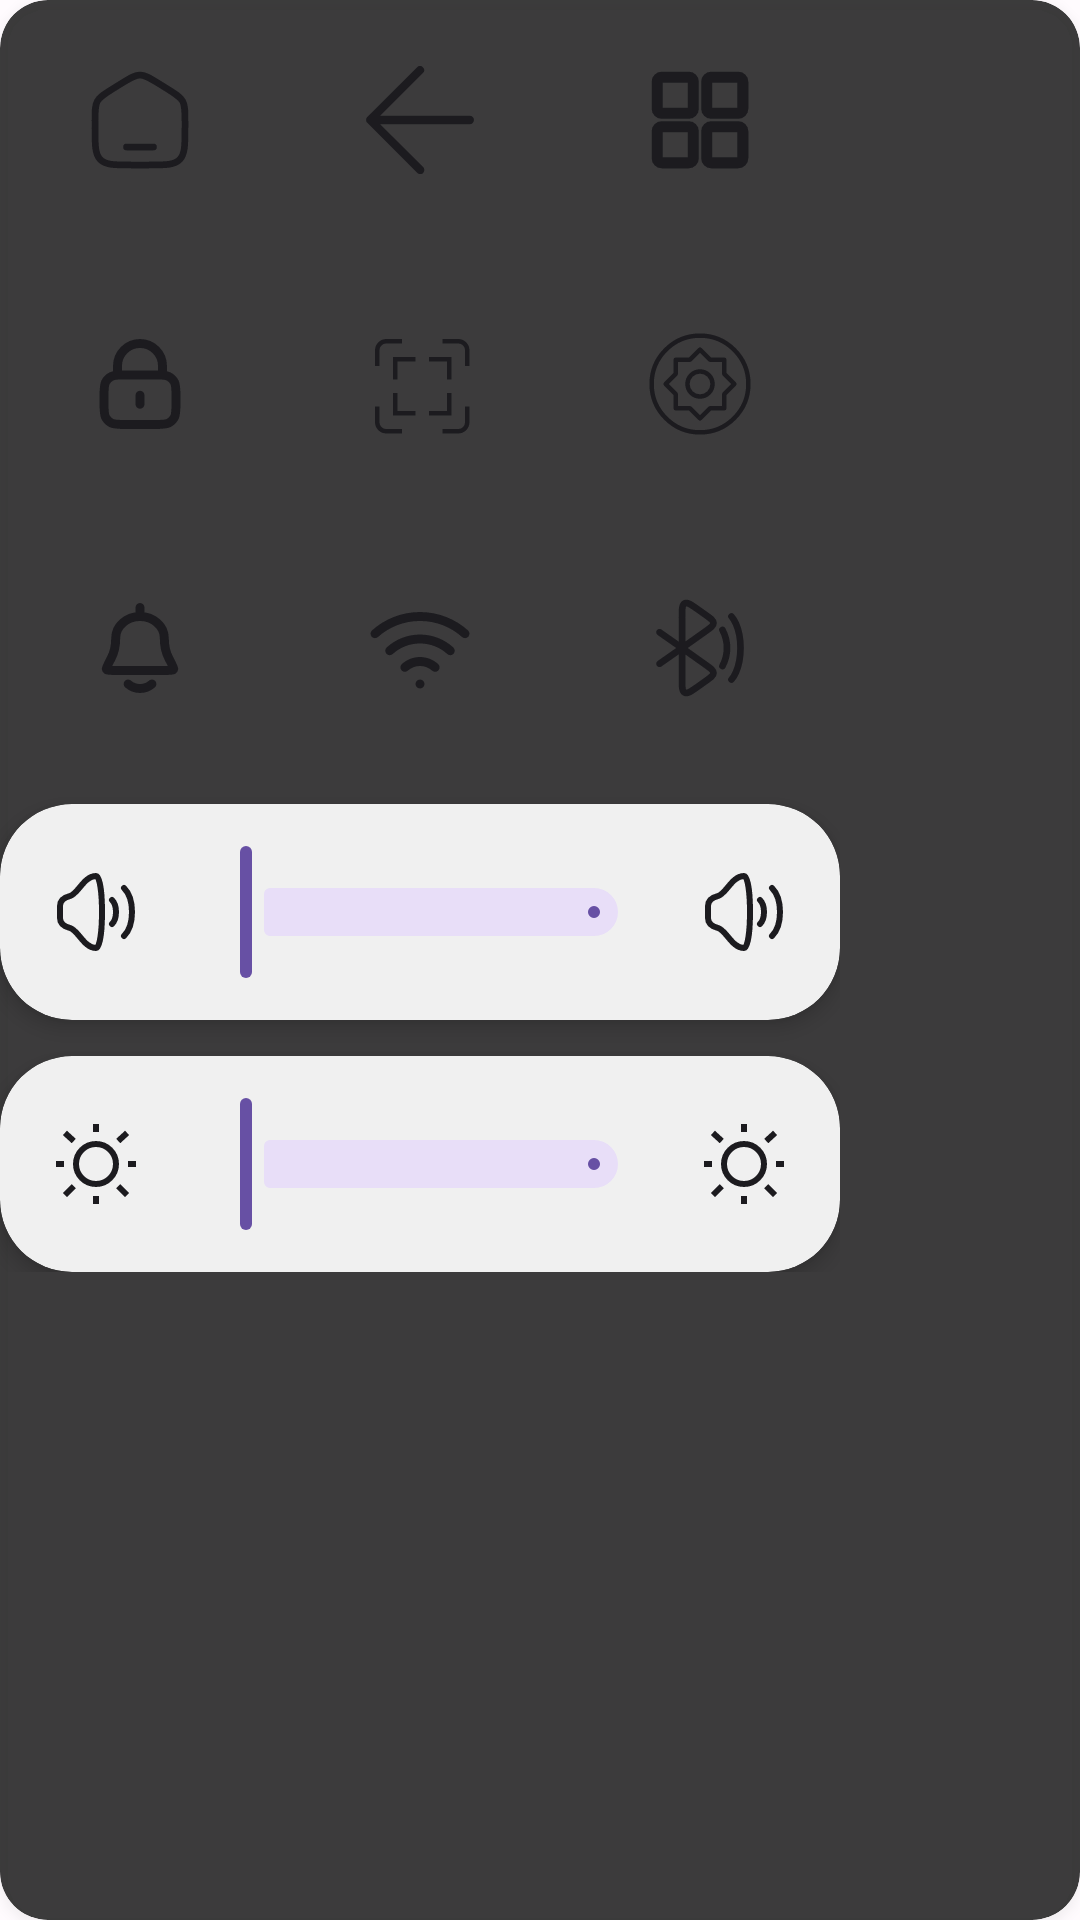

Locate icon controls on the screen. Image size 1080*1920, boxes as (x1, y1, x2, y2).
apps modern: (652, 72, 748, 168)
back modern: (366, 66, 474, 174)
bell modern: (102, 603, 178, 693)
home modern: (92, 72, 188, 168)
lock modern: (100, 339, 180, 429)
speaker modern: (57, 873, 135, 951), (705, 873, 783, 951)
sun modern: (56, 1124, 136, 1204), (704, 1124, 784, 1204)
wifi modern: (371, 612, 469, 688)
